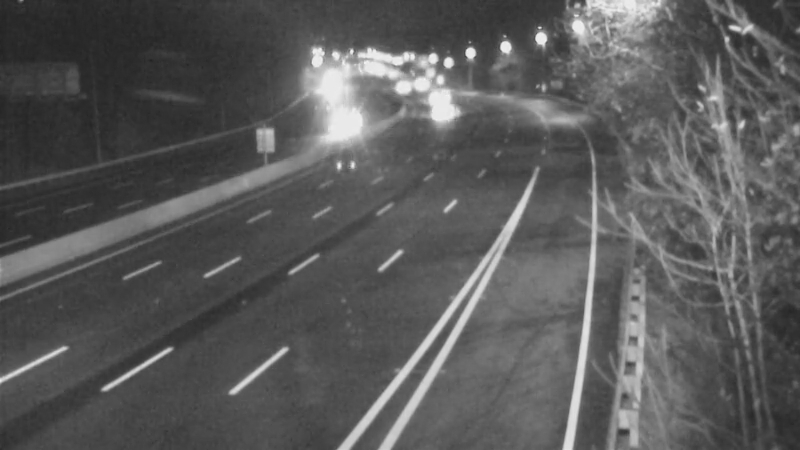vehicle: (395, 60, 445, 110), (374, 59, 424, 109), (415, 73, 465, 123), (422, 85, 472, 135), (325, 99, 375, 149)
